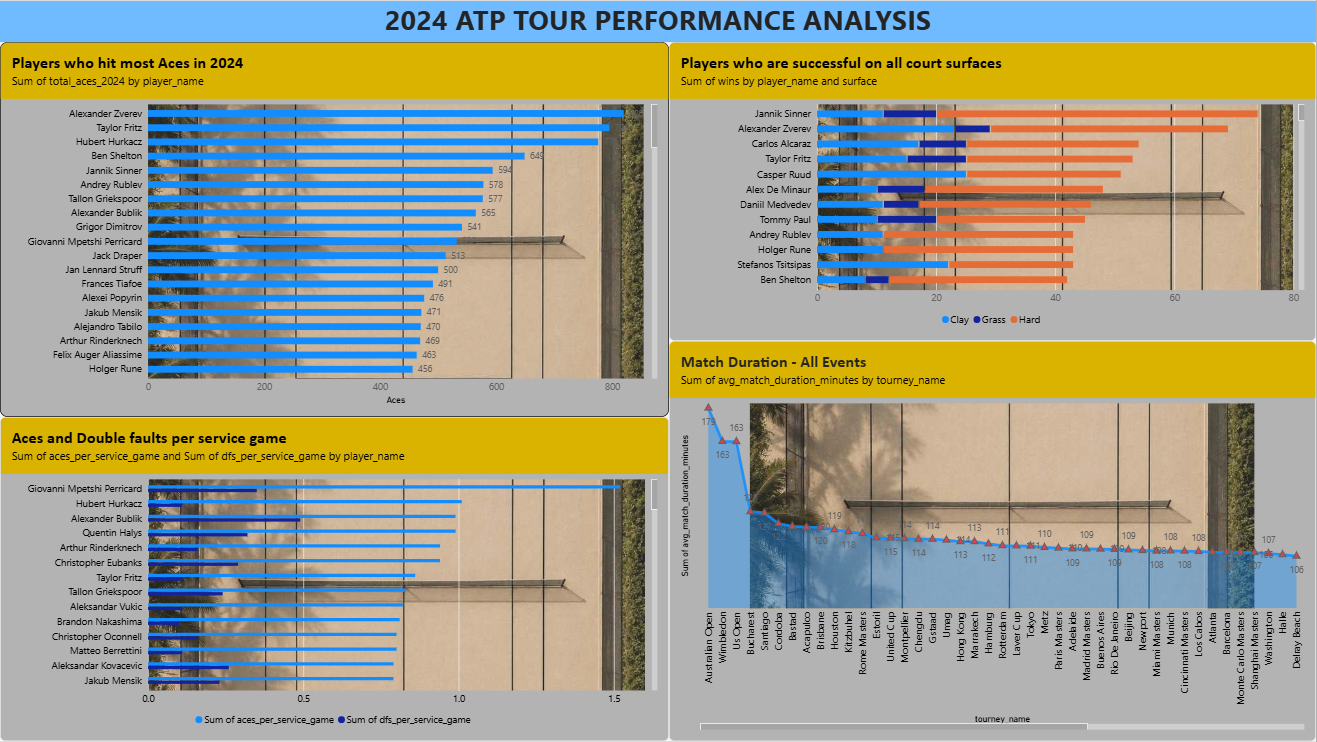

The page's visual inventory and layout, read from the dashboard file:
{"tool":"powerbi","page":{"name":"Page 1","canvas":[1920,1080],"ordinal":0},"visuals":[{"type":"clusteredBarChart","title":"Players who hit most Aces in 2024","fields":{"Category":["clean_overall_season_stats.player_name"],"Y":["Sum(clean_overall_season_stats.total_aces_2024)"]},"box":[10.2,0,987.7,560.2],"z":0},{"type":"barChart","title":"Players who are successful on all court surfaces","fields":{"Category":["clean surface analysis.player_name"],"Series":["clean surface analysis.surface"],"Y":["Sum(clean surface analysis.wins)"]},"box":[997.9,0,922.1,453.7],"z":1000},{"type":"areaChart","title":"Match Duration - All Events","fields":{"Category":["Tournament executive summary.tourney_name"],"Y":["Sum(Tournament executive summary.avg_match_duration_minutes)"]},"box":[997.9,453.7,922.1,625.9],"z":2000},{"type":"clusteredBarChart","title":"Aces and Double faults per service game","fields":{"Category":["clean Winner serving stats.player_name"],"Y":["Sum(clean Winner serving stats.aces_per_service_game)","Sum(clean Winner serving stats.dfs_per_service_game)"]},"box":[10.2,560.2,987.7,519.4],"z":3000}]}

Visuals, with their boxes in screenshot pixels (x1, y1, x2, y2), scaled from the page's 1920x1080 canvas onto the 1317x742 screenshot:
"Players who hit most Aces in 2024" clusteredBarChart: (7, 0, 684, 385)
"Players who are successful on all court surfaces" barChart: (684, 0, 1316, 312)
"Match Duration - All Events" areaChart: (684, 312, 1316, 741)
"Aces and Double faults per service game" clusteredBarChart: (7, 385, 684, 741)
